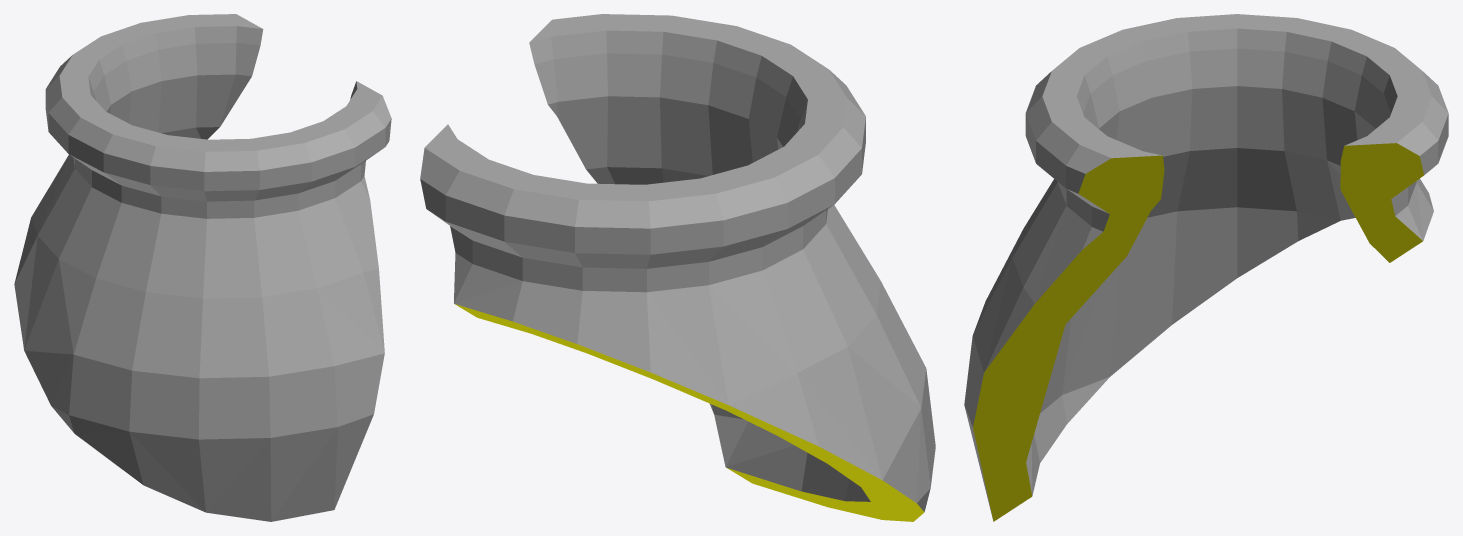
Rendered from SM_brokenVase_Part2.fbx.
3 renders of one model, left to right at view 1: azimuth 30°, elevation 25°; view 2: azimuth 150°, elevation 25°; view 3: azimuth 270°, elevation 25°, orthographic. The views are drawn at different scales.
Parts seen in each view (by area): view 1: SM_brokenVase_part2; view 2: SM_brokenVase_part2; view 3: SM_brokenVase_part2.
Part boxes in pixels (x1,y1,x2,y2): SM_brokenVase_part2: (14,14,391,521); SM_brokenVase_part2: (420,14,935,521); SM_brokenVase_part2: (964,14,1448,521).
Bounding box in the file's own units: 52.55 × 59.14 × 61.72.
